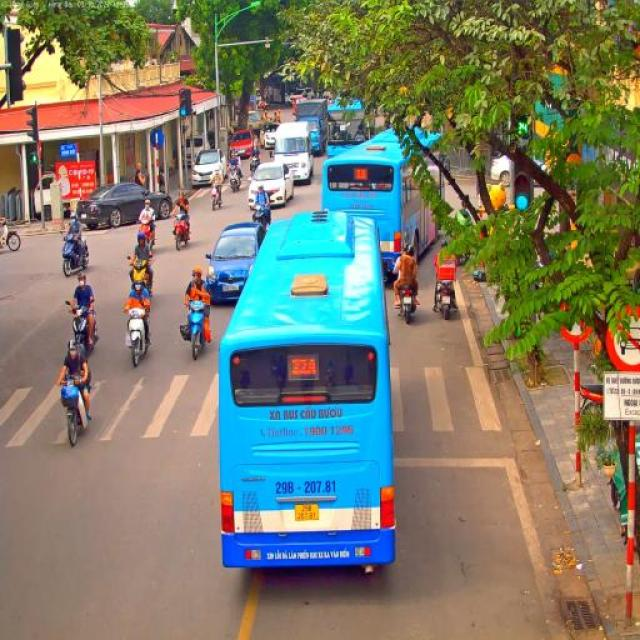bus: (218, 207, 398, 575), (321, 122, 439, 280), (326, 98, 368, 158)
car: (204, 222, 268, 306), (75, 182, 174, 229), (247, 161, 294, 210), (490, 152, 542, 189), (192, 148, 228, 188), (227, 130, 254, 161), (244, 109, 264, 138), (260, 122, 280, 149), (288, 87, 314, 107)
motorcycle: (58, 377, 91, 447), (182, 300, 212, 361), (125, 304, 153, 368), (65, 300, 100, 351), (60, 232, 90, 277), (127, 256, 157, 300), (432, 279, 458, 320), (395, 279, 417, 325), (0, 216, 21, 254), (172, 212, 192, 250), (252, 202, 272, 234), (138, 219, 156, 249), (226, 165, 242, 193), (210, 184, 222, 211), (248, 159, 260, 181)
truck: (272, 121, 314, 185), (295, 98, 327, 157), (259, 76, 285, 106)
